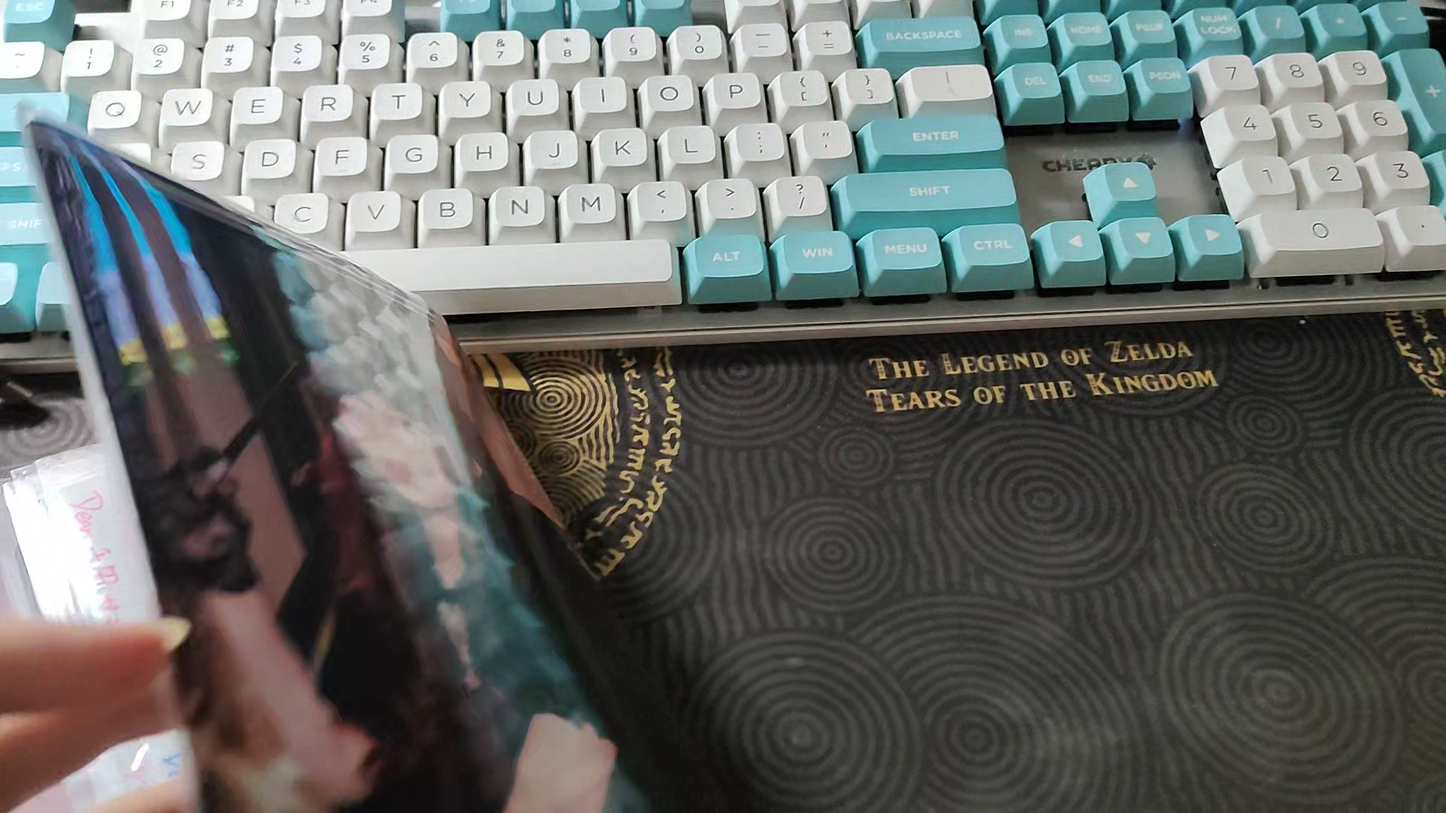Photo_book: (0, 100, 721, 813)
